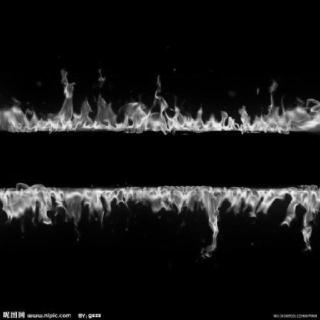Fire: (2, 70, 320, 139)
